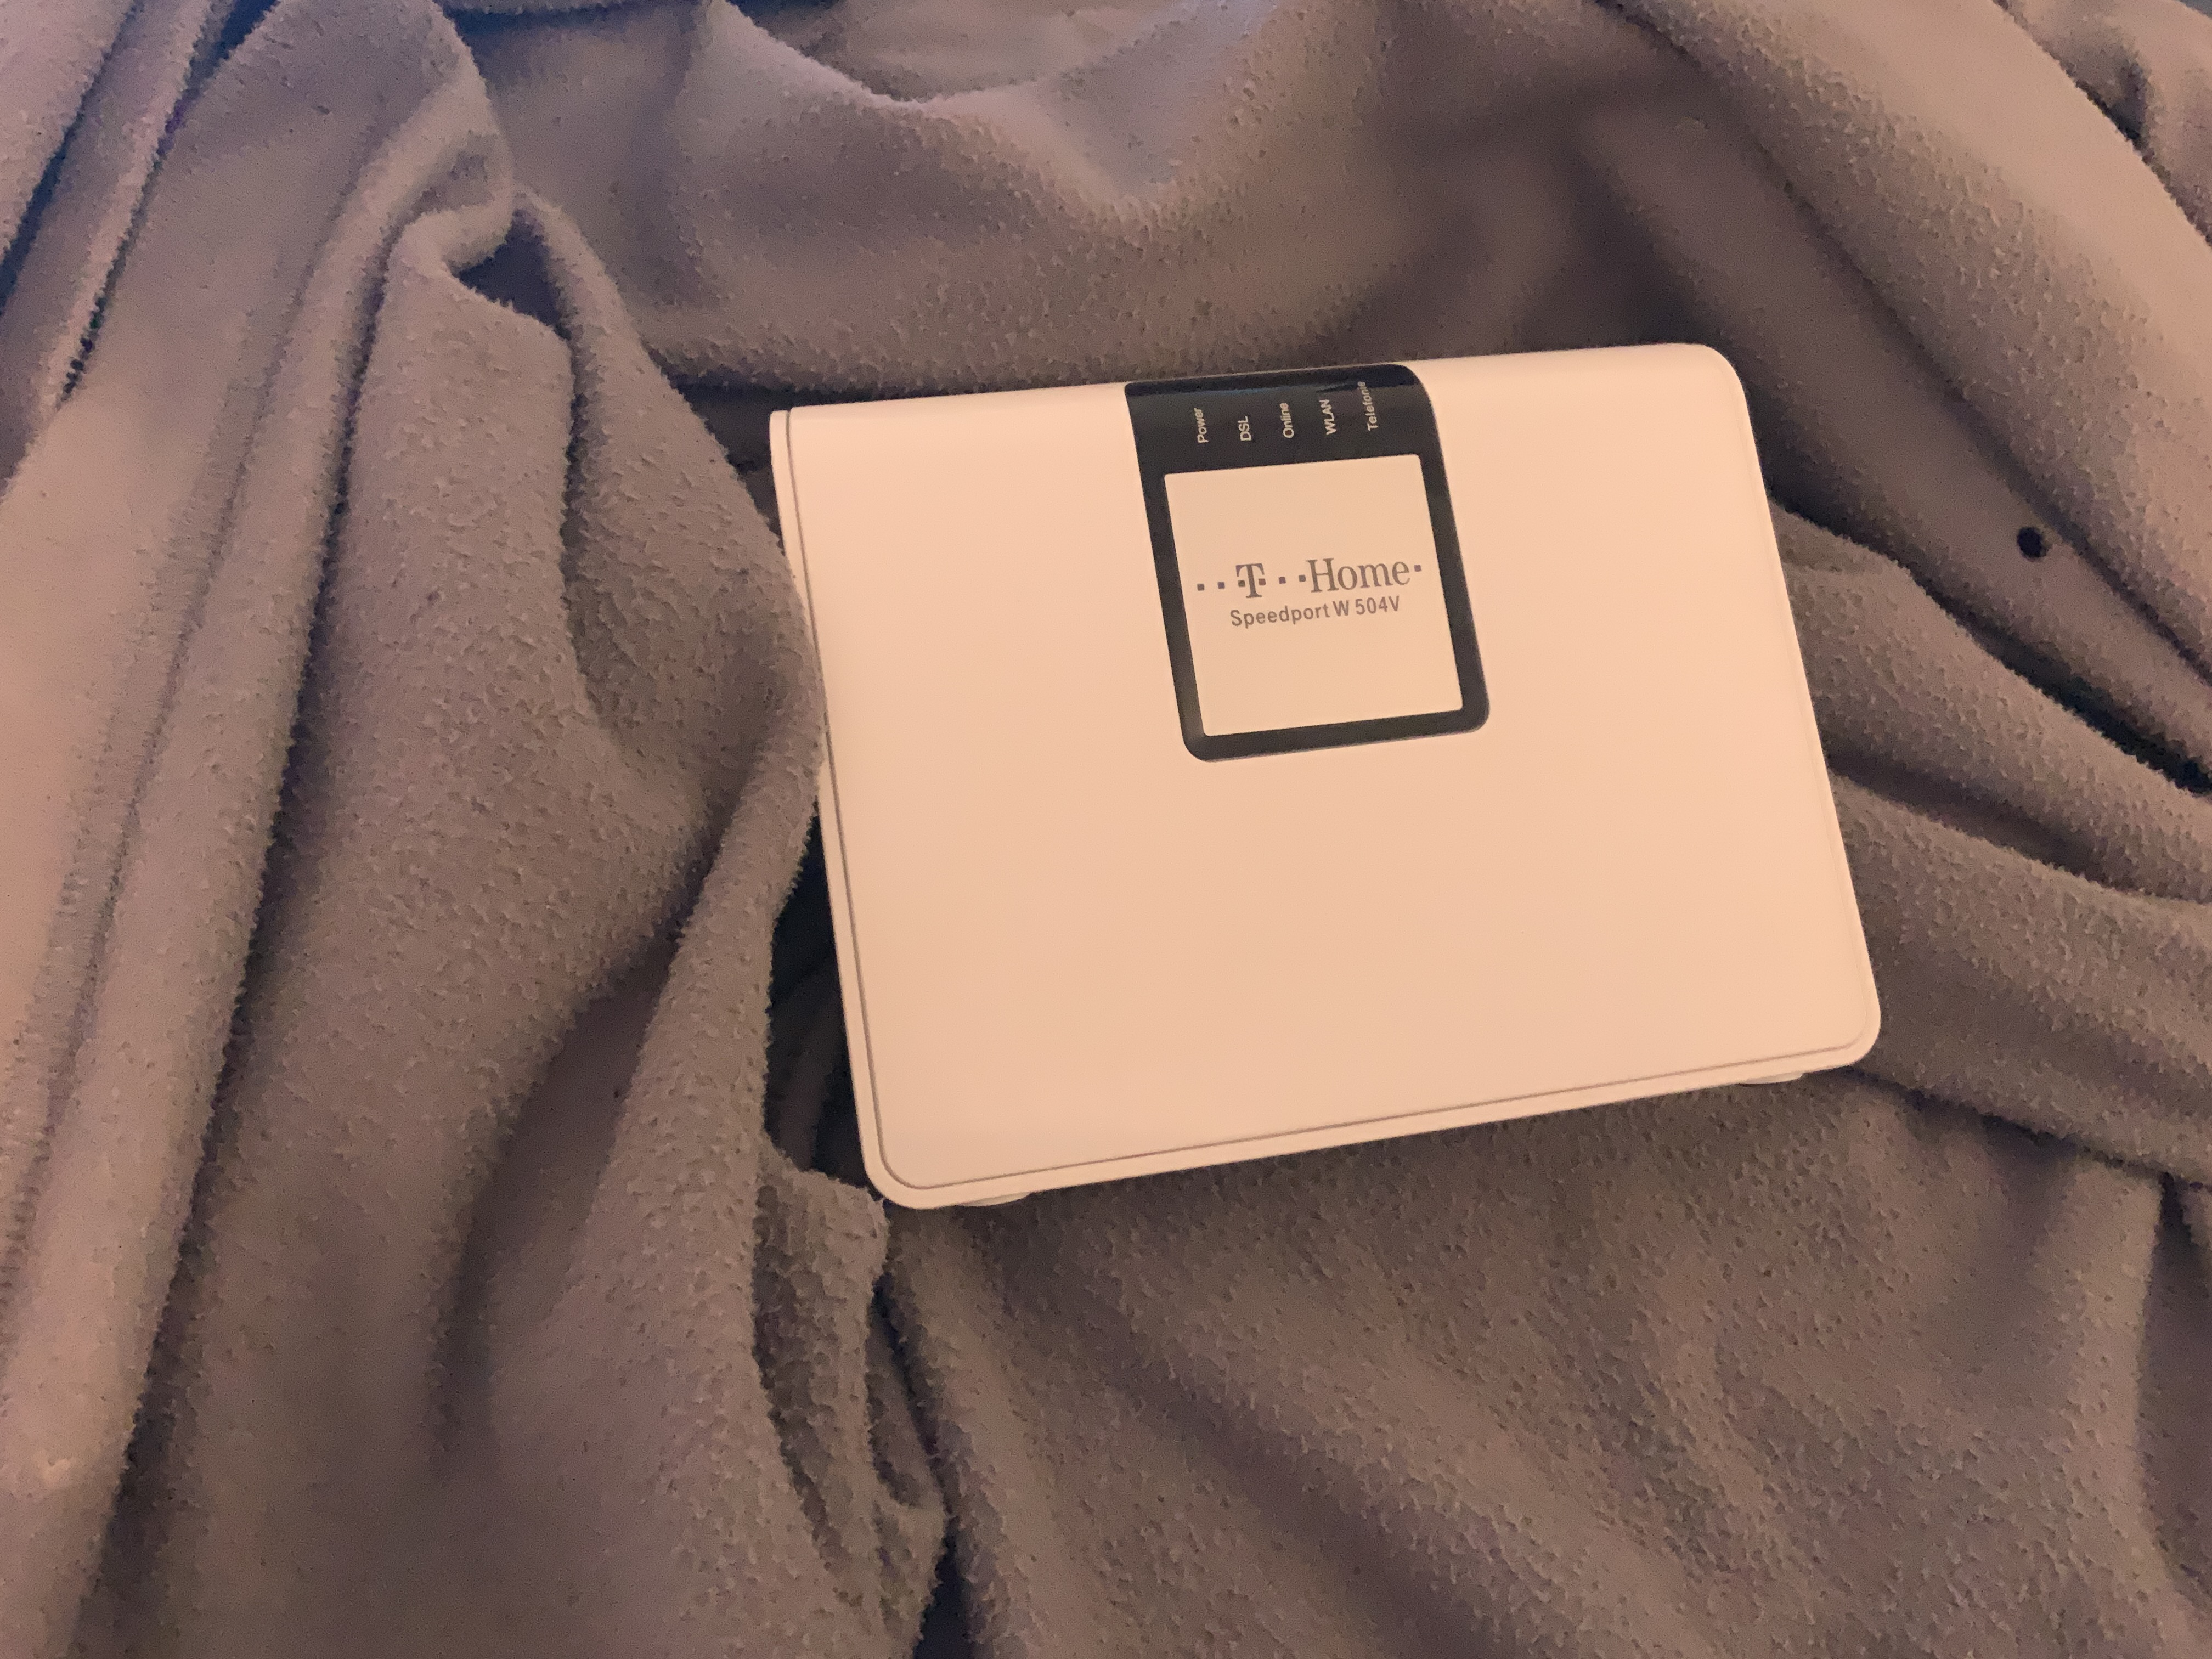Router2: (758, 331, 1898, 1215)
